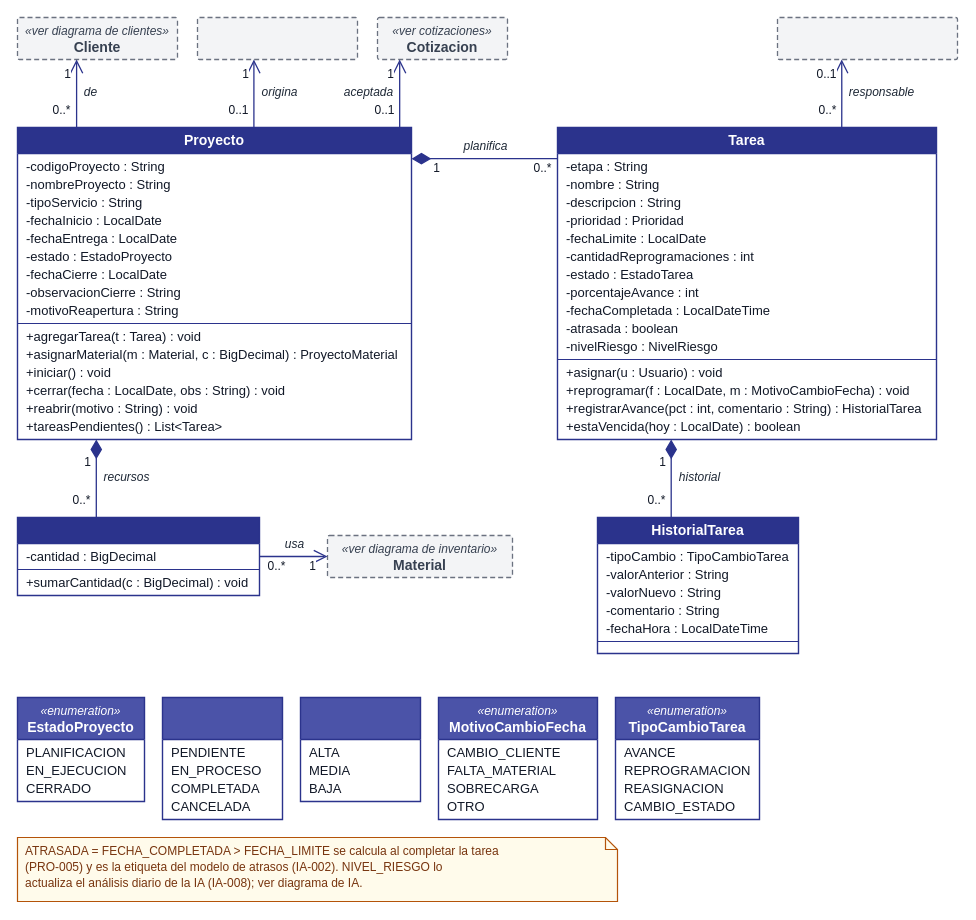
Image size: 976x920. Some labels were removed from this diagram. Each missing label, with the box of its shape:
ProyectoMaterial: (16, 516, 260, 596)
«enumeration» EstadoTarea: (161, 696, 283, 820)
«enumeration» Prioridad: (299, 696, 421, 802)
«ver diagrama de clientes» Solicitud: (196, 16, 358, 60)
«ver diagrama de seguridad» Usuario: (776, 16, 958, 60)
